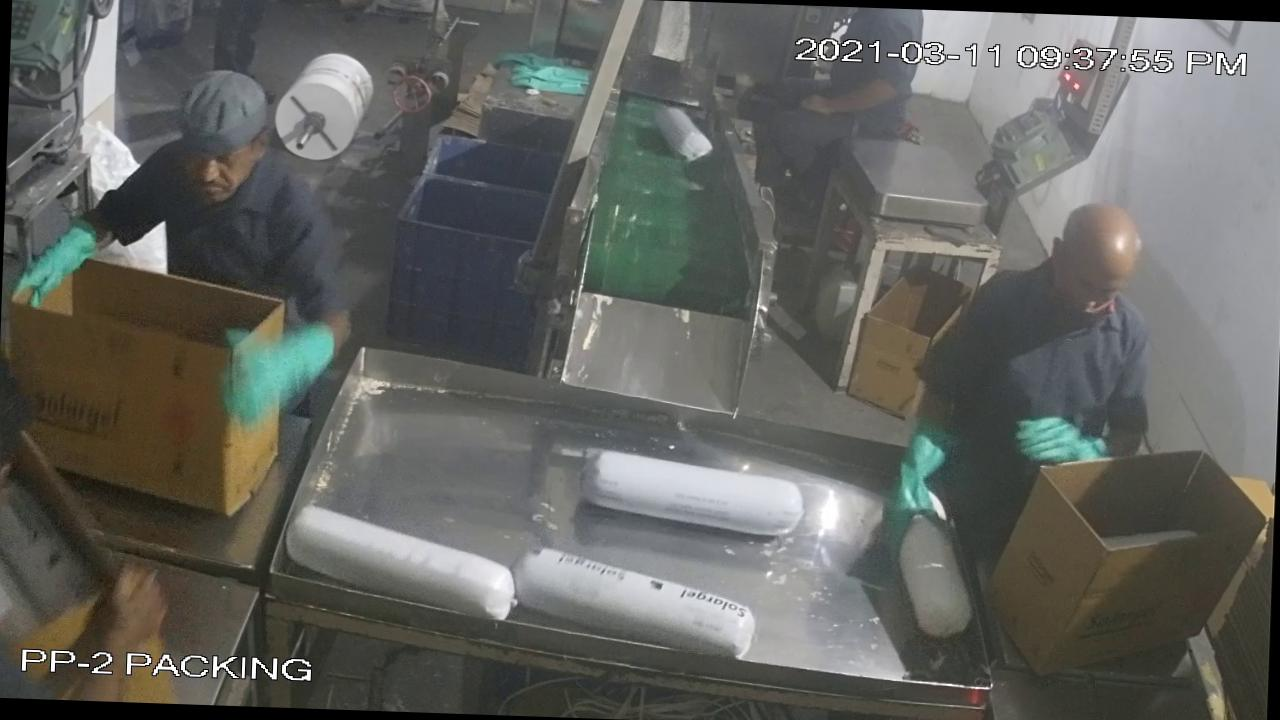Gloves: (876, 406, 964, 569), (14, 202, 109, 326)
No-gloves: (40, 540, 174, 704), (796, 65, 902, 130)
